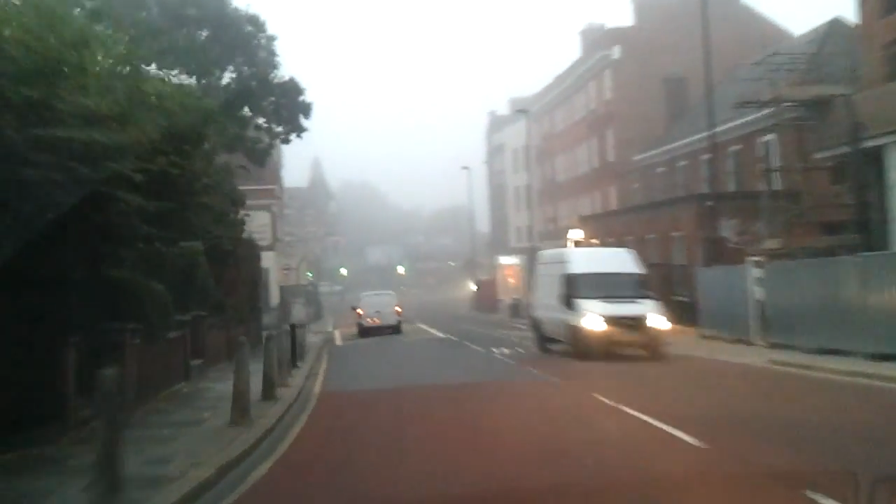car: (527, 245, 675, 362), (350, 289, 402, 338), (308, 279, 346, 296)
